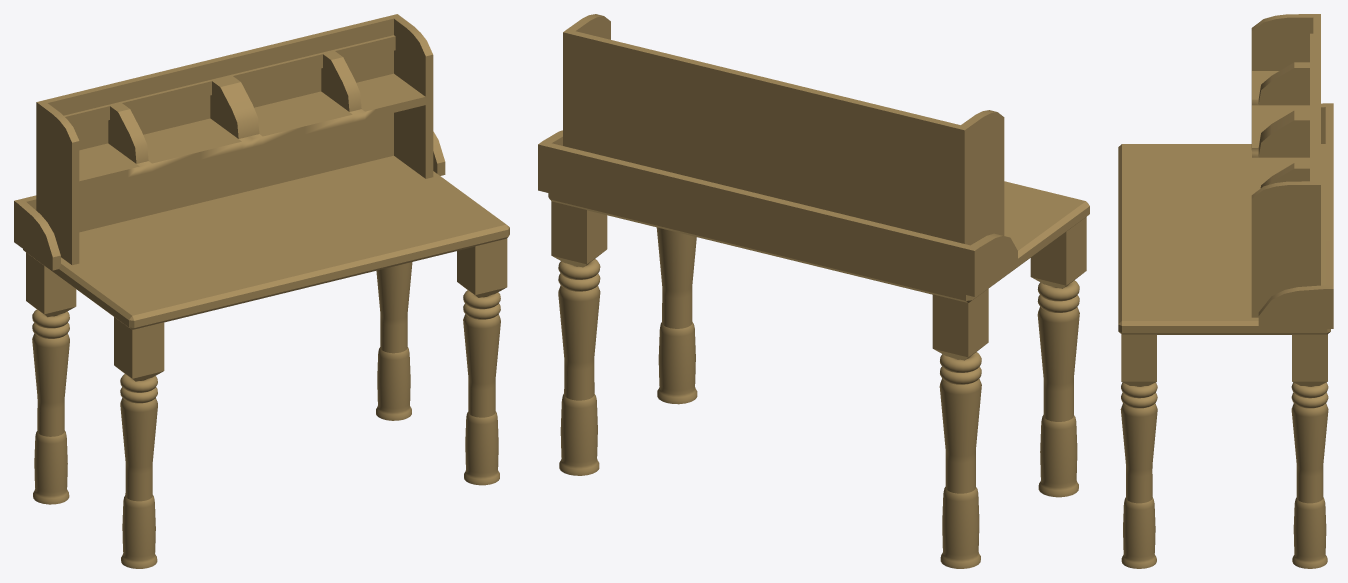
Rendered from desk_myroom 1.fbx.
3 views of the same model, side by side, from view 1: azimuth 30°, elevation 25°; view 2: azimuth 150°, elevation 25°; view 3: azimuth 270°, elevation 25° (orthographic). The views are drawn at different scales.
Visible parts, largest first — view 1: pCube7, pCube1, pCylinder1, pCylinder2, pCylinder3, pCylinder4, pCube3, pCube6, pCube2, pCube4; view 2: pCube7, pCube6, pCube1, pCylinder3, pCylinder4, pCylinder2, pCylinder1, pCube4, pCube5, pCube3; view 3: pCube1, pCube7, pCylinder4, pCylinder1, pCube6, pCube2, pCube5, pTorus1, pTorus7, pTorus8, pTorus2.
Boxes of the visible parts, x1,y1,x2,y2 form: pCube7: (36,14,433,265); pCube1: (23,155,509,329); pCylinder1: (463,314,500,485); pCylinder2: (120,398,157,568); pCylinder3: (32,333,69,504); pCylinder4: (376,262,412,420); pCube3: (114,317,164,381); pCube6: (14,131,445,270); pCube2: (457,238,507,297); pCube4: (26,252,76,317); pCube7: (563,14,1004,245); pCube6: (538,130,1017,296); pCube1: (548,181,1089,302); pCylinder3: (939,378,981,568); pCylinder4: (558,285,600,475); pCylinder2: (1037,307,1079,497); pCylinder1: (656,227,697,404); pCube4: (932,289,988,360); pCube5: (551,201,607,267); pCube3: (1030,217,1086,288); pCube1: (1118,144,1330,334); pCube7: (1251,14,1320,317); pCylinder4: (1291,403,1328,568); pCylinder1: (1120,403,1157,568); pCube6: (1258,103,1333,328); pCube2: (1121,334,1156,385); pCube5: (1292,334,1327,385); pTorus1: (1121,382,1157,398); pTorus7: (1291,382,1328,398); pTorus8: (1291,392,1328,408); pTorus2: (1121,392,1157,408).
Size of the model in its own units: 12.3 by 11.77 by 6.04.
